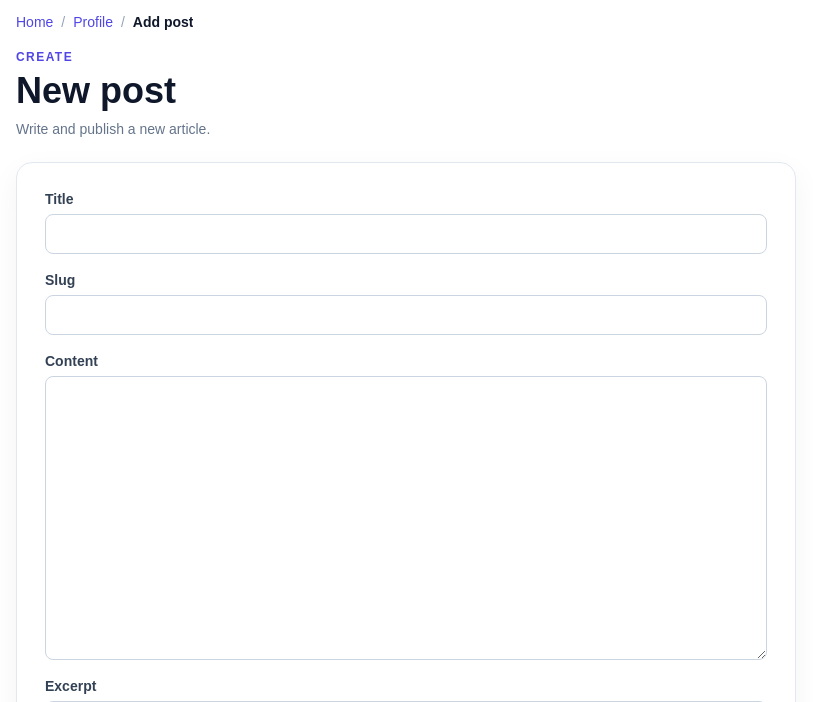
Test case: AddPost › Slug generation › should automatically generate slug from title
This screenshot has width=813, height=702.
Type "My First Blog Post" into the field with test id "add-post-title" at (406, 234), box [45,214,767,254]
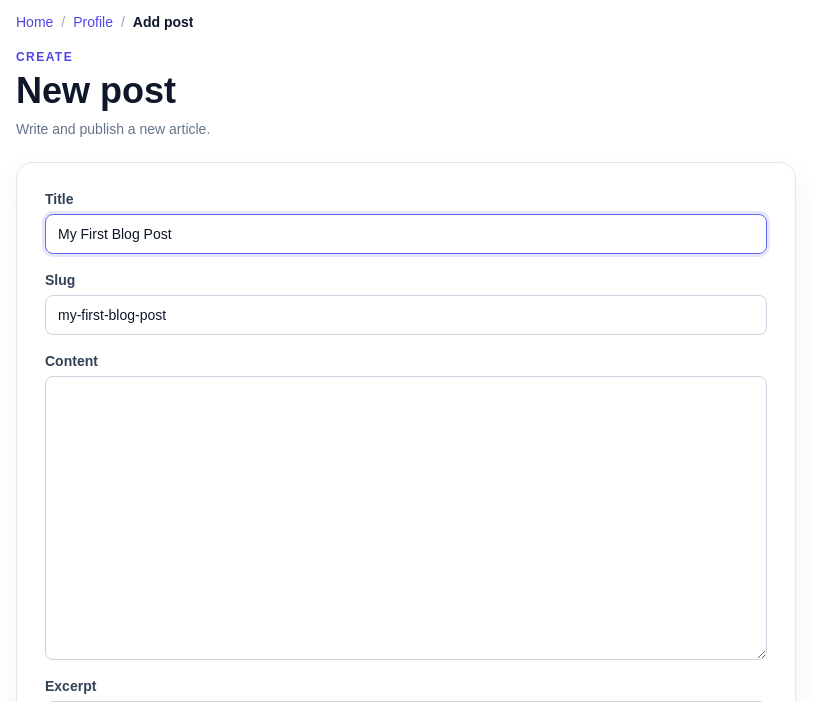
Now the field with test id "add-post-slug" holds "my-first-blog-post", box [45,295,767,335]
